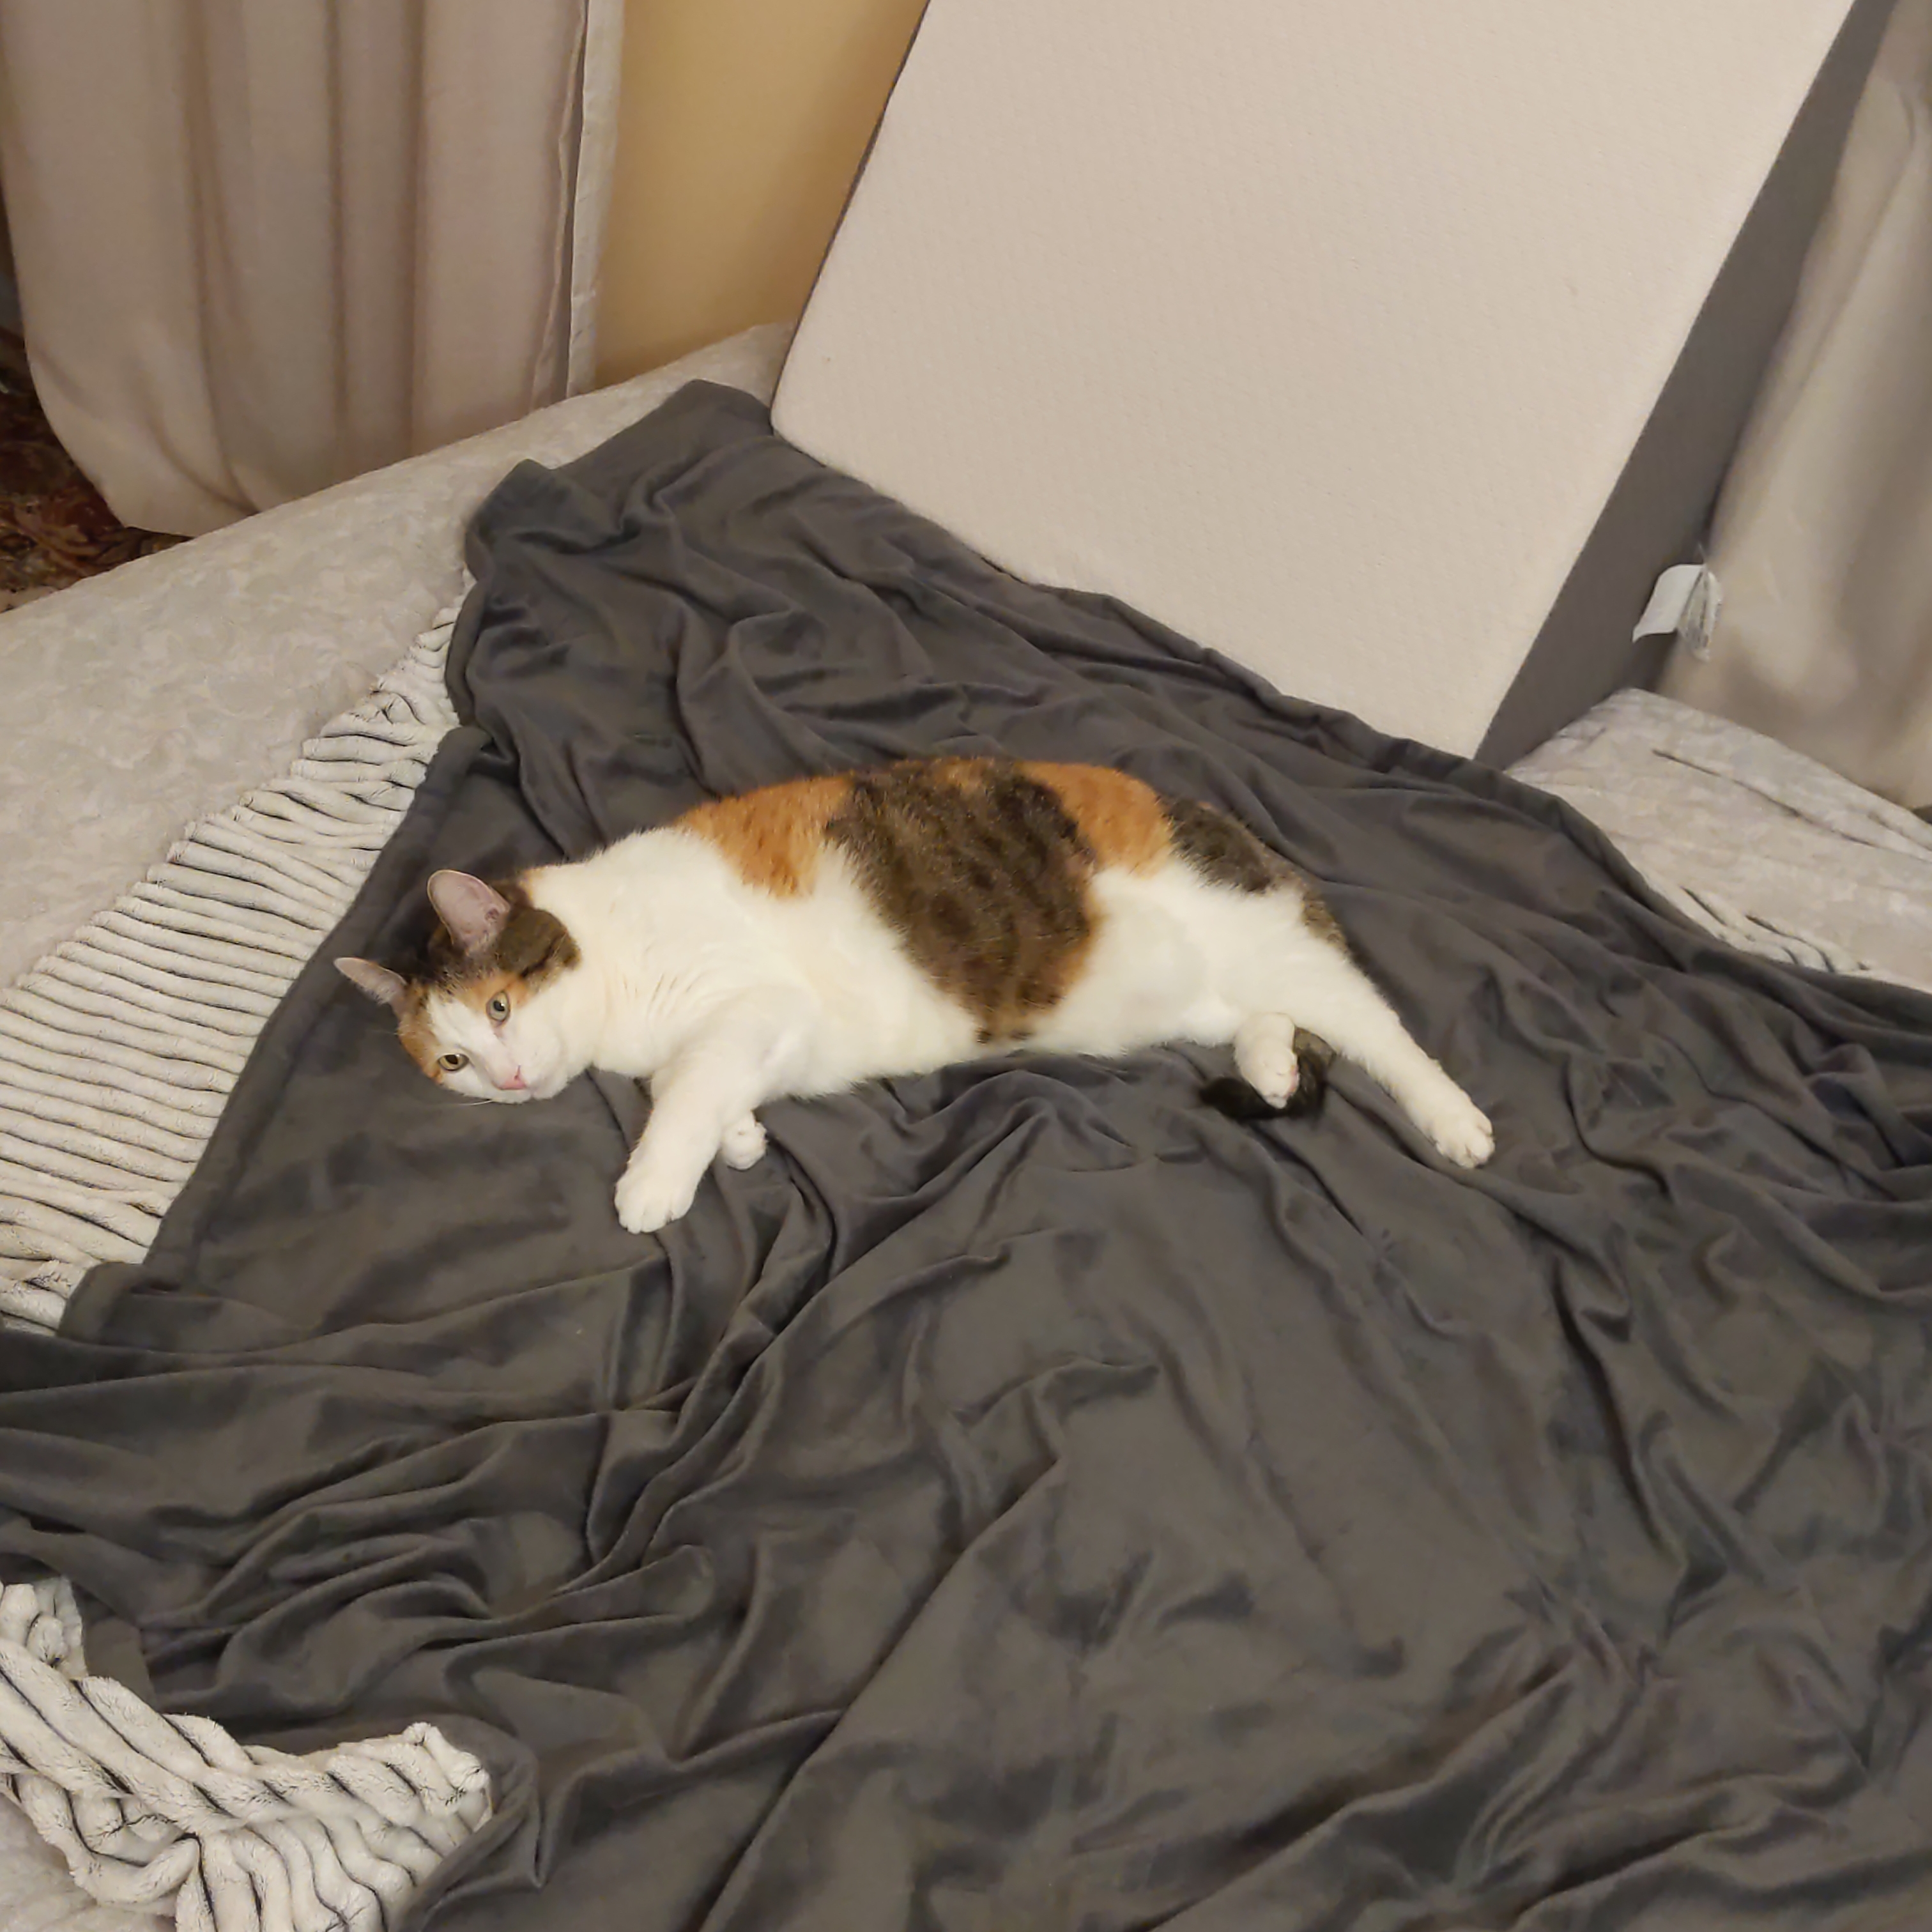Calico: (336, 755, 1499, 1235)
